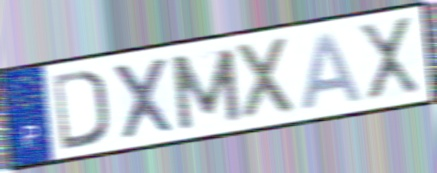A: (298, 29, 366, 113)
D: (50, 66, 110, 153)
M: (167, 45, 244, 133)
X: (355, 14, 423, 105), (110, 54, 178, 143), (234, 33, 299, 125)
